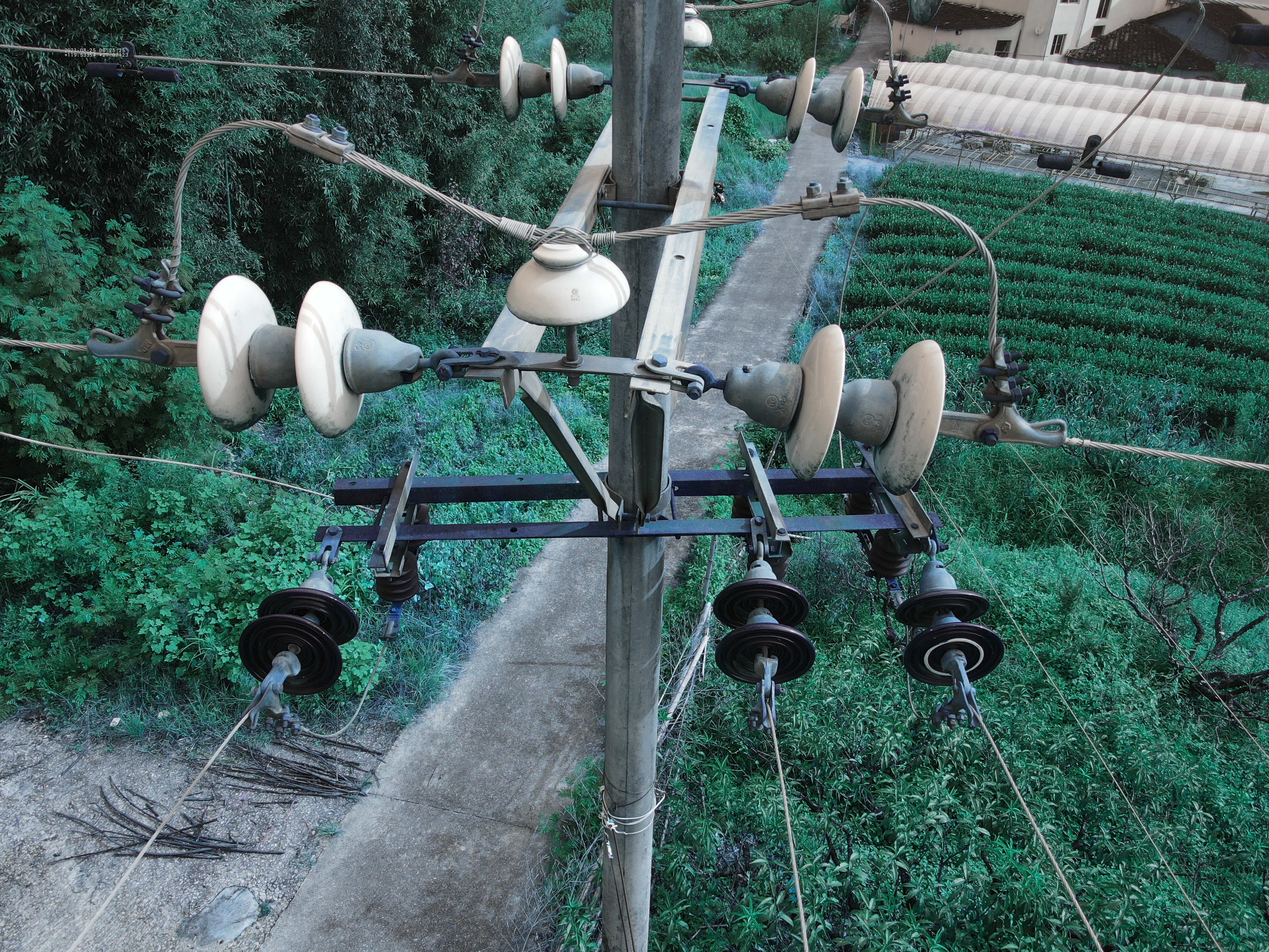severe_soiling_no_discharge_whole: (188, 271, 429, 440), (725, 319, 945, 495), (755, 55, 870, 154), (496, 32, 608, 128)
